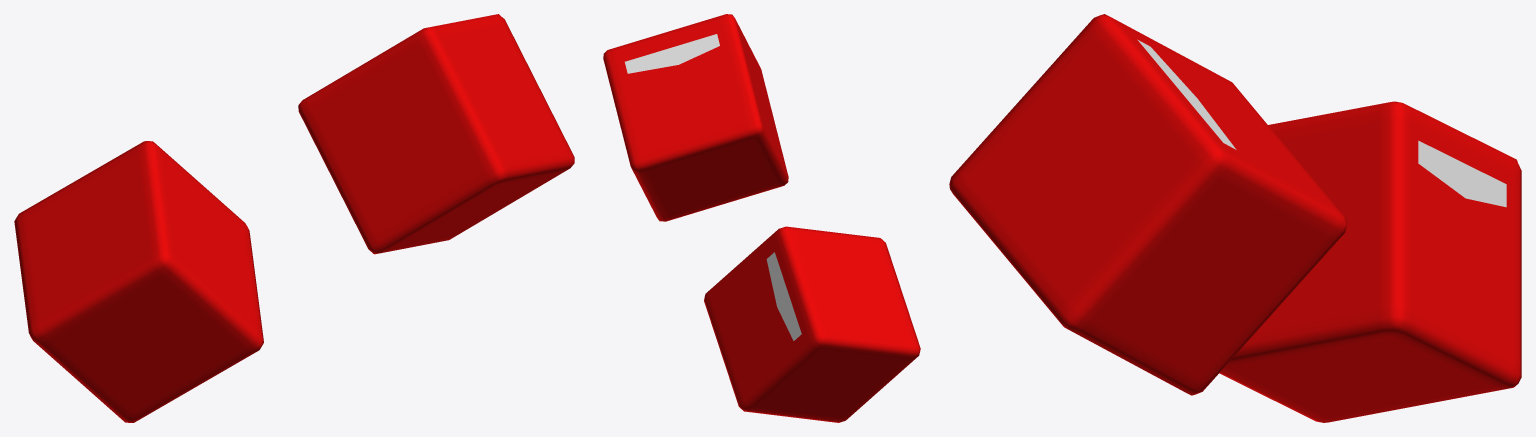
File: FBX_BeatsCube.fbx
3 views of the same model, side by side, from view 1: azimuth 30°, elevation 25°; view 2: azimuth 150°, elevation 25°; view 3: azimuth 270°, elevation 25° (orthographic). The views are drawn at different scales.
Parts seen in each view (by area): view 1: pCube3; view 2: pCube3; view 3: pCube3.
Boxes of the visible parts, <box> form: pCube3: <box>14,14,574,422</box>; pCube3: <box>603,14,920,422</box>; pCube3: <box>949,14,1521,422</box>.
Bounding box in the file's own units: 121 × 102 × 94.75.
